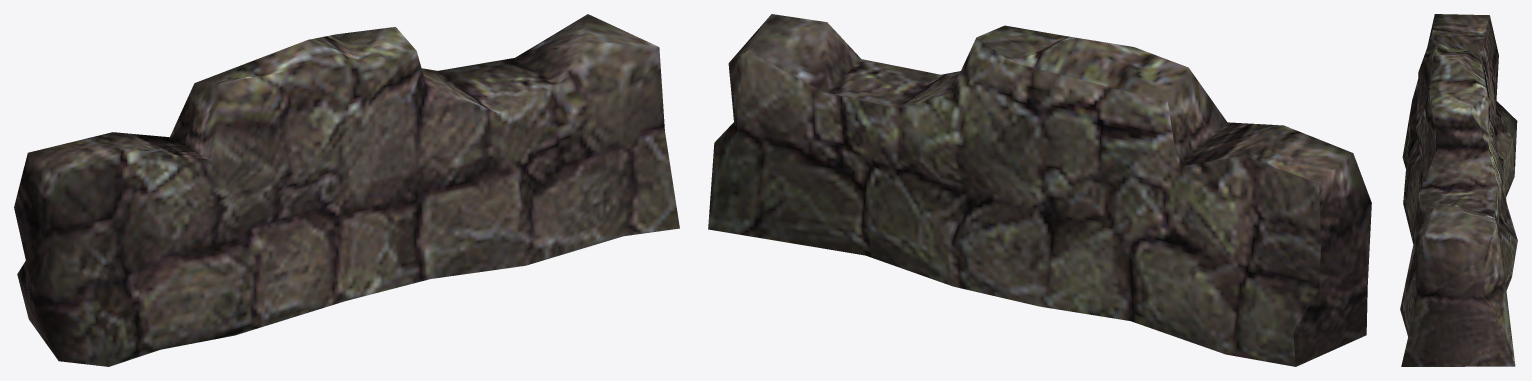
File: Scene_Stonewall_01.FBX
3 views of the same model, side by side, from view 1: azimuth 30°, elevation 25°; view 2: azimuth 150°, elevation 25°; view 3: azimuth 270°, elevation 25° (orthographic). The views are drawn at different scales.
Visible parts, largest first — view 1: Scene_Stonewall_01; view 2: Scene_Stonewall_01; view 3: Scene_Stonewall_01.
Boxes of the visible parts, left/top/right/bottom form: Scene_Stonewall_01: left=14, top=14, right=679, bottom=366; Scene_Stonewall_01: left=708, top=14, right=1371, bottom=366; Scene_Stonewall_01: left=1400, top=14, right=1517, bottom=366.
Size of the model in its own units: 8.44 by 3.17 by 1.84.
